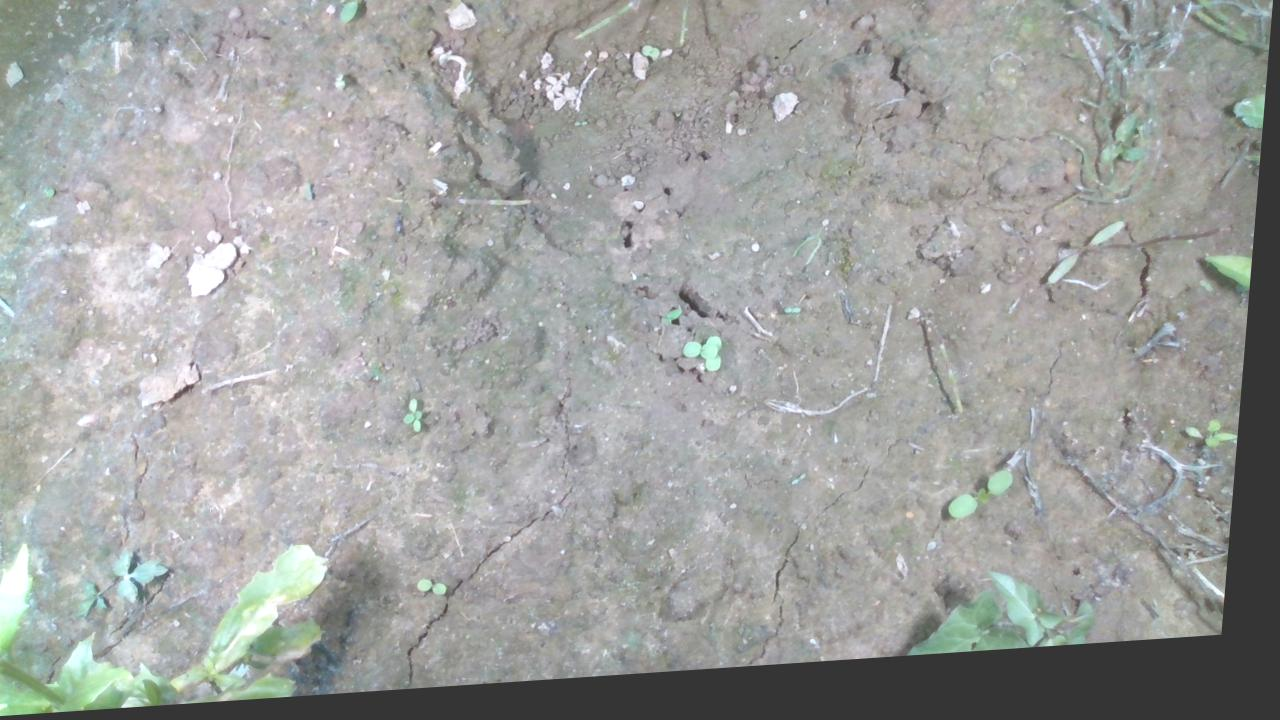weed: (1051, 234, 1130, 300), (956, 484, 1023, 536), (420, 579, 479, 611), (402, 401, 436, 447)
